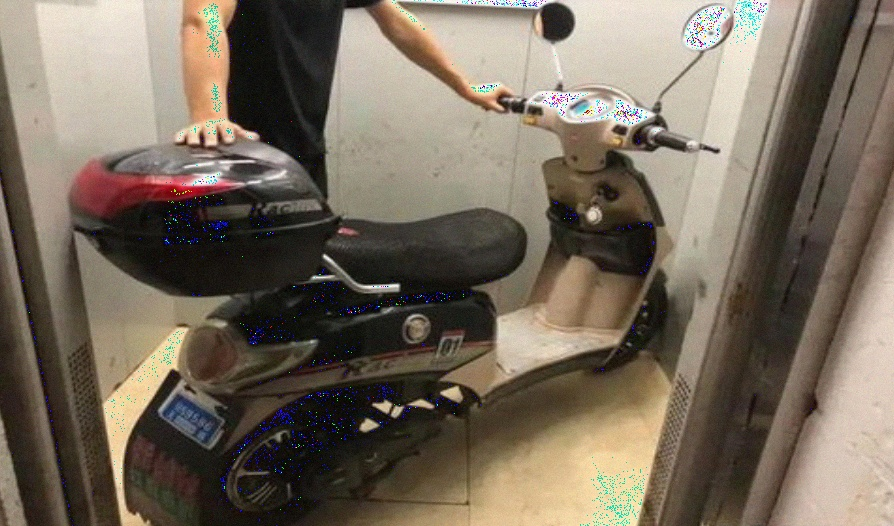ebike: (68, 3, 733, 520)
person: (175, 1, 520, 202)
